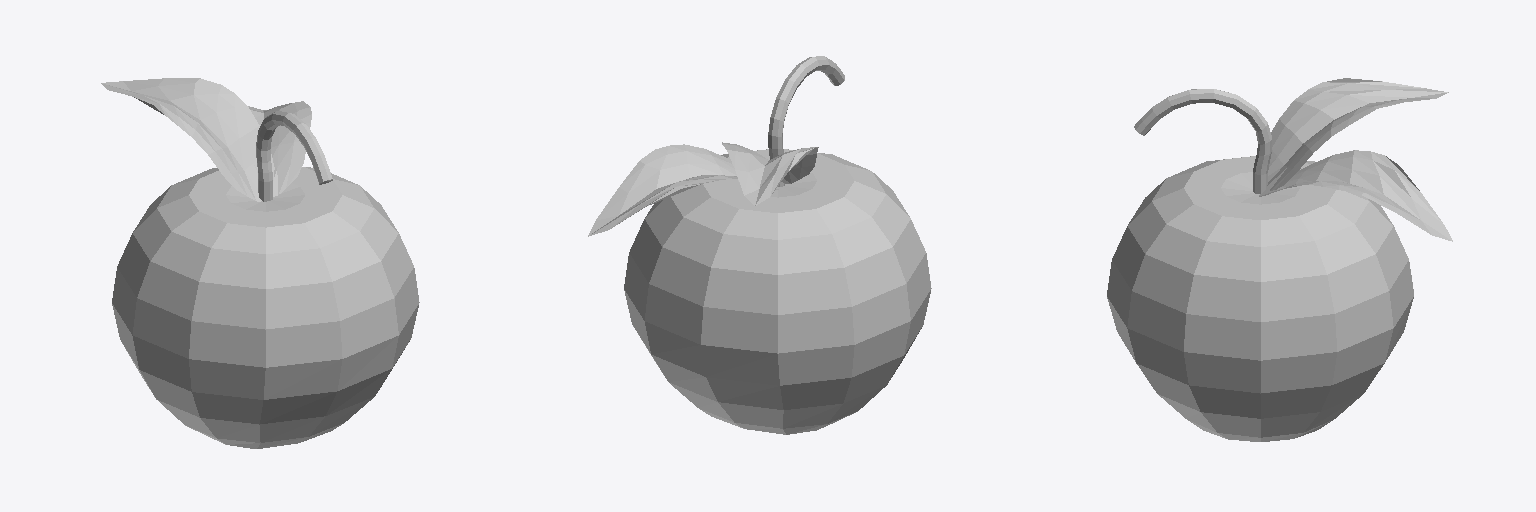
Rendered from Apple.obj.
The picture shows the model from 3 angles: view 1: azimuth 30°, elevation 25°; view 2: azimuth 150°, elevation 25°; view 3: azimuth 270°, elevation 25°; orthographic projection.
Visible parts, largest first — view 1: Apple, Corn:Bottom_Leaf Corn:Corn Apple; view 2: Apple, Corn:Bottom_Leaf Corn:Corn Apple; view 3: Apple, Corn:Bottom_Leaf Corn:Corn Apple.
Boxes of the visible parts, box(x1,y1,x2,y2) form: Apple: box(112, 111, 419, 448); Corn:Bottom_Leaf Corn:Corn Apple: box(101, 78, 311, 201); Apple: box(624, 56, 931, 434); Corn:Bottom_Leaf Corn:Corn Apple: box(588, 142, 818, 236); Apple: box(1107, 89, 1413, 441); Corn:Bottom_Leaf Corn:Corn Apple: box(1259, 78, 1452, 241).
Size of the model in its own units: 2 by 2.4 by 2.25.